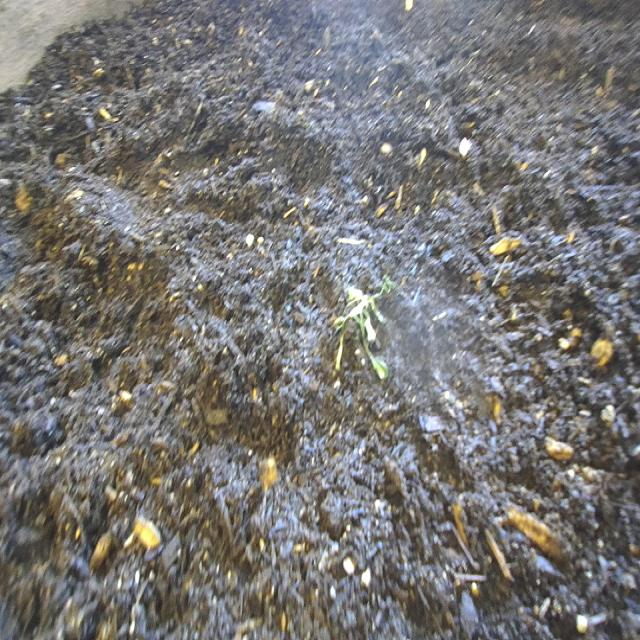Unhealthy: (330, 269, 393, 390)
